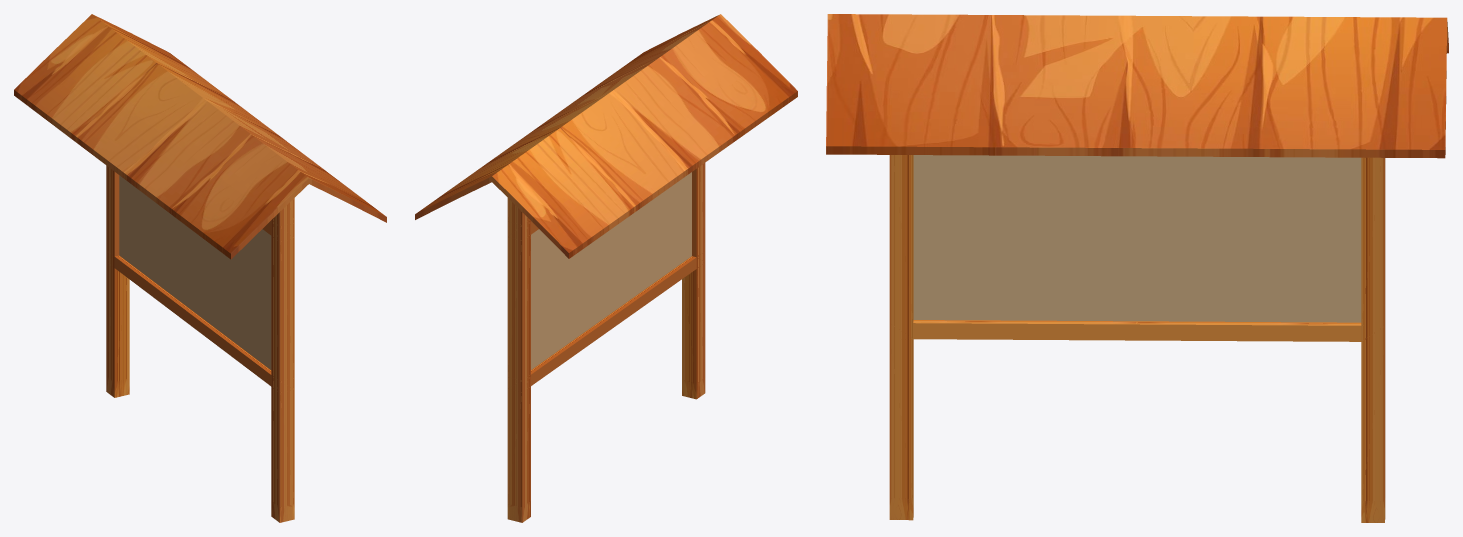
The model's file is papan pengumuman.fbx.
3 renders of one model, left to right at view 1: azimuth 30°, elevation 25°; view 2: azimuth 150°, elevation 25°; view 3: azimuth 270°, elevation 25°, orthographic. The views are drawn at different scales.
Parts seen in each view (by area): view 1: Plane.001, Cube.001; view 2: Plane.001, Cube.001; view 3: Cube.001, Plane.001.
Part boxes in pixels (x1,y1,x2,y2): Plane.001: (14,14,386,259); Cube.001: (106,165,294,522); Plane.001: (415,14,797,258); Cube.001: (507,163,705,522); Cube.001: (889,155,1385,522); Plane.001: (826,14,1448,158).
Bounding box in the file's own units: 308 × 661 × 745.
Materials: 3 (3 with a texture image).
